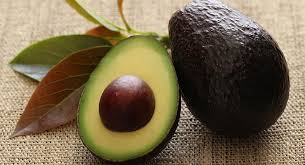aguacate: (162, 1, 290, 143), (71, 30, 182, 164)
